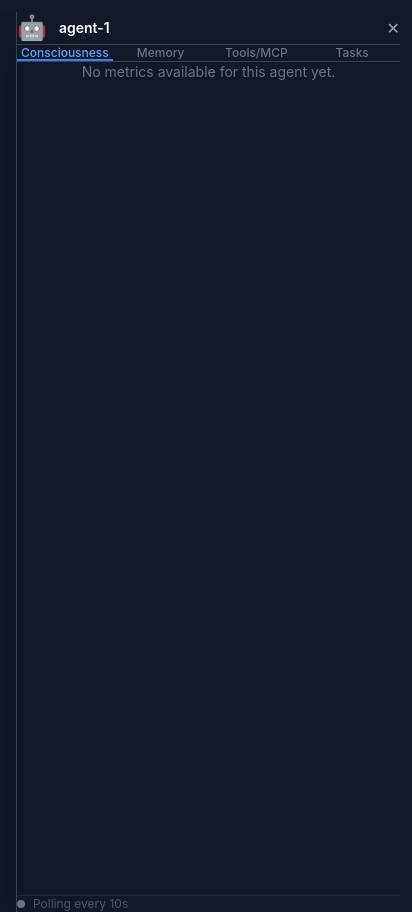
Test: MemoryTabContent › shows "No memories recorded" when total is 0
This screenshot has width=412, height=912.
Step 1. Click the tab "Memory" → (161, 53), box [113, 45, 209, 61]
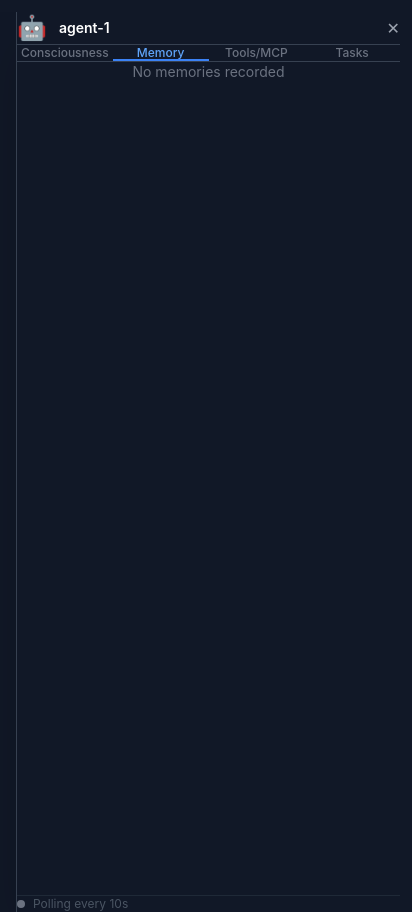
Expected: the text "No memories recorded" is shown, [132, 63, 285, 80]
